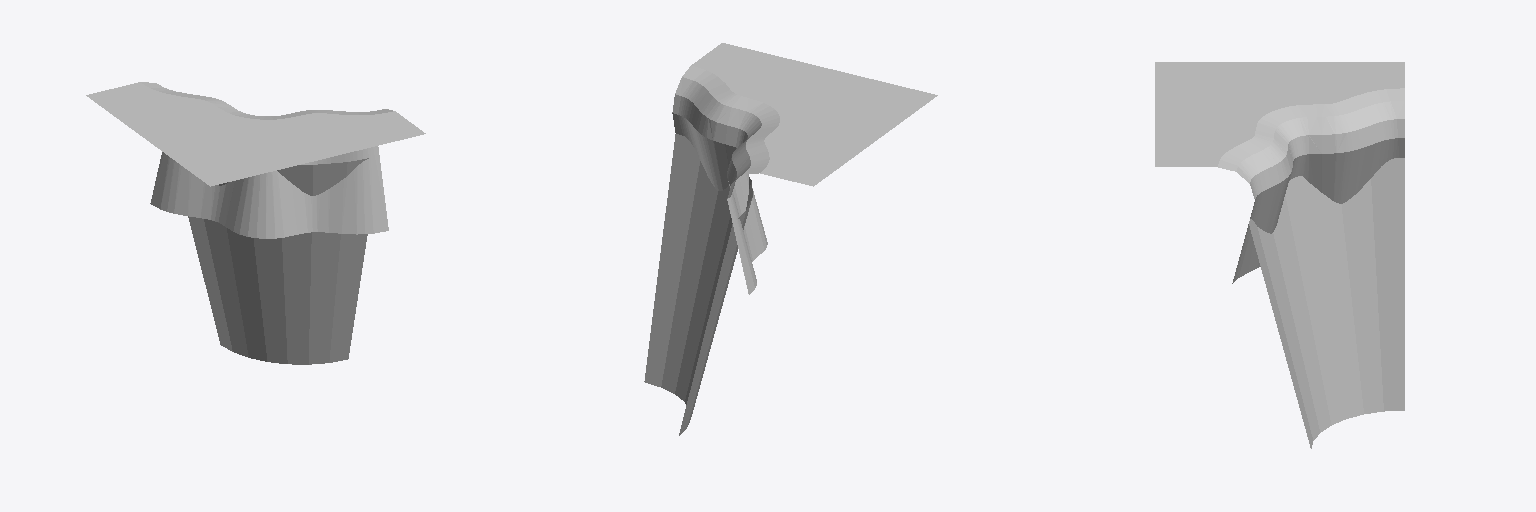
Rendered from Terrain_Cliff_Corner_Inner_2x2.obj.
3 renders of one model, left to right at view 1: azimuth 30°, elevation 25°; view 2: azimuth 150°, elevation 25°; view 3: azimuth 270°, elevation 25°, orthographic.
Visible parts, largest first — view 1: object2, object1; view 2: object2, object1; view 3: object2, object1.
Boxes of the visible parts, <box> form: object2: <box>86,82,425,238</box>; object1: <box>188,158,368,364</box>; object2: <box>672,43,937,294</box>; object1: <box>644,134,752,435</box>; object2: <box>1155,62,1404,283</box>; object1: <box>1249,158,1404,448</box>.
Size of the model in its own units: 2 by 2.5 by 2.